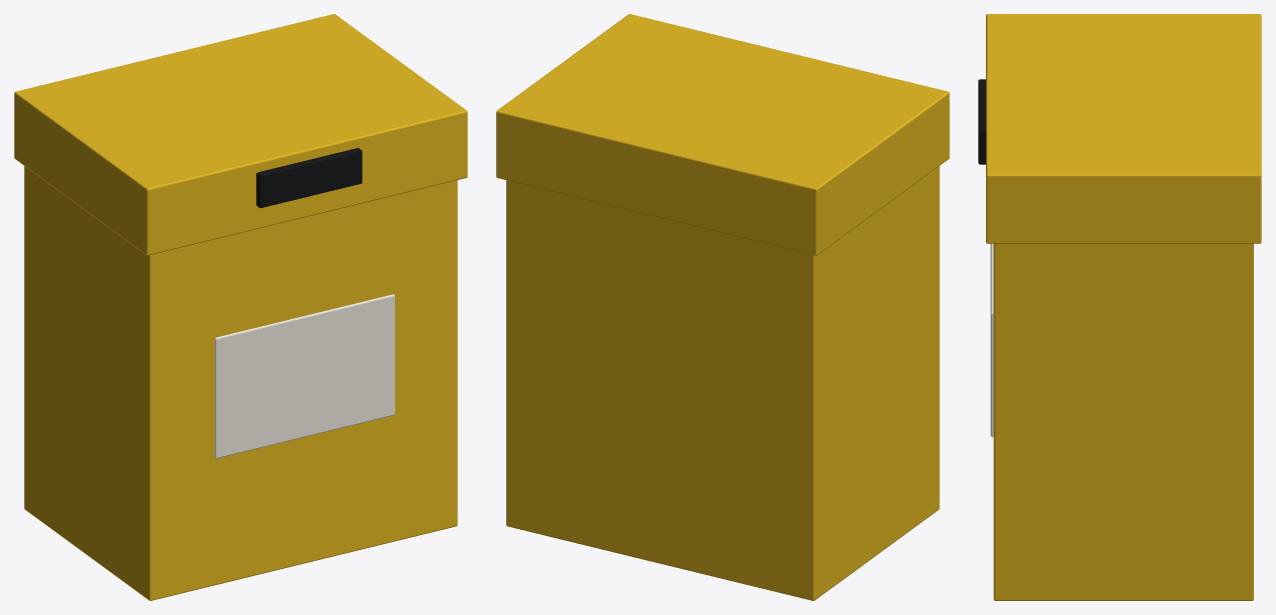
The model's file is PROP_Bin_Sharps.glb.
3 renders of one model, left to right at view 1: azimuth 30°, elevation 25°; view 2: azimuth 150°, elevation 25°; view 3: azimuth 270°, elevation 25°, orthographic. The views are drawn at different scales.
Parts seen in each view (by area): view 1: PROP_Bin_Sharps_Mesh; view 2: PROP_Bin_Sharps_Mesh; view 3: PROP_Bin_Sharps_Mesh.
Boxes of the visible parts, <box> form: PROP_Bin_Sharps_Mesh: <box>14,14,467,600</box>; PROP_Bin_Sharps_Mesh: <box>496,14,949,600</box>; PROP_Bin_Sharps_Mesh: <box>978,14,1261,600</box>.
Bounding box in the file's own units: 0.25 × 0.31 × 0.185.
